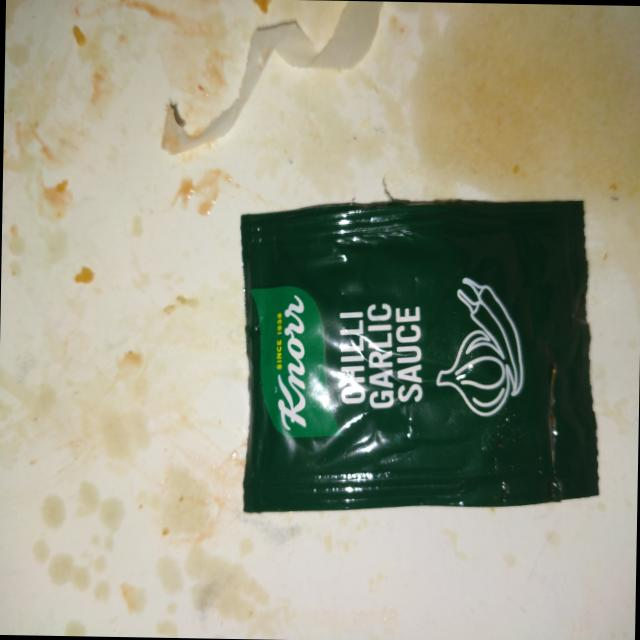electronic: (235, 192, 604, 518)
